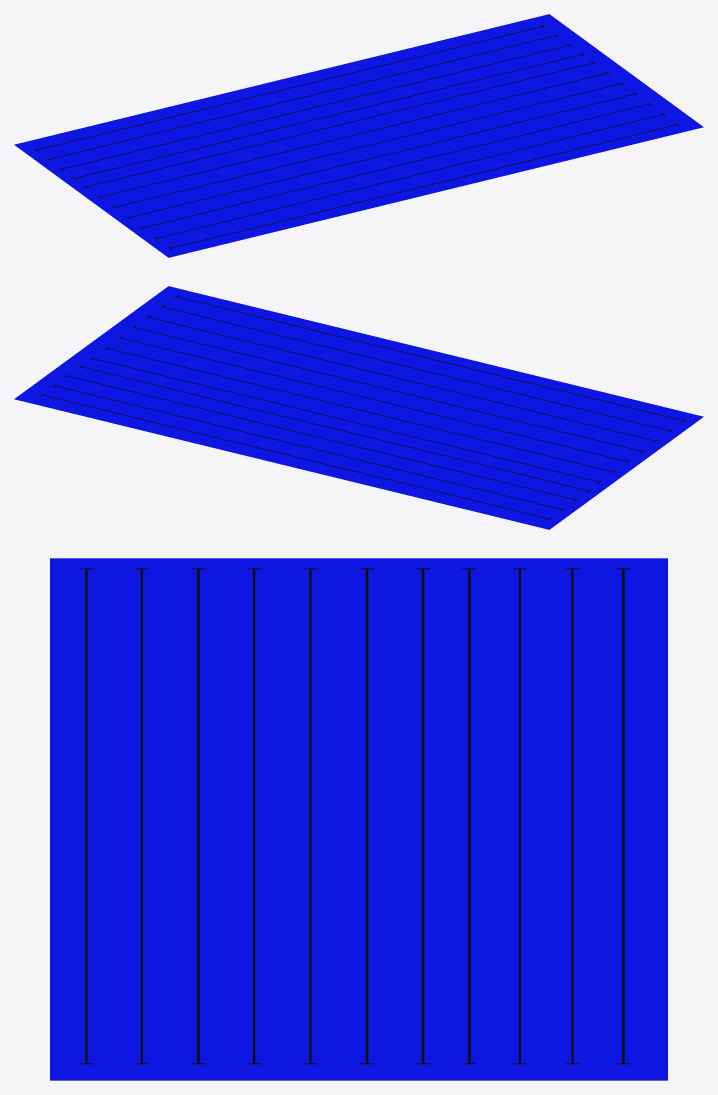
File: water bottom.fbx
3 renders of one model, top to bottom at view 1: azimuth 30°, elevation 25°; view 2: azimuth 150°, elevation 25°; view 3: azimuth 270°, elevation 25°, orthographic. The views are drawn at different scales.
Parts seen in each view (by area): view 1: Plane.001; view 2: Plane.001; view 3: Plane.001.
Boxes of the visible parts, <box> form: Plane.001: <box>14,14,703,257</box>; Plane.001: <box>14,286,703,529</box>; Plane.001: <box>50,558,667,1080</box>.
Bounding box in the file's own units: 5000 × 1.43 × 2500.
